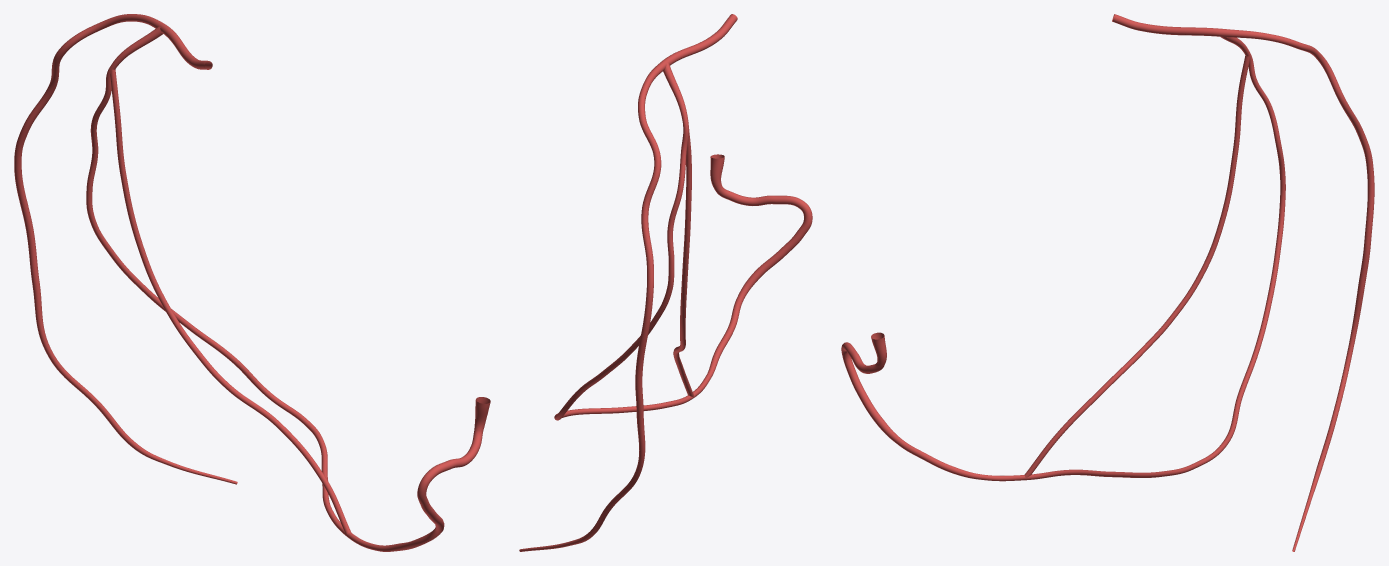
3 renders of one model, left to right at view 1: azimuth 30°, elevation 25°; view 2: azimuth 150°, elevation 25°; view 3: azimuth 270°, elevation 25°, orthographic. The views are drawn at different scales.
Parts seen in each view (by area): view 1: 右侧蝶腭动脉鼻后外侧支; view 2: 右侧蝶腭动脉鼻后外侧支; view 3: 右侧蝶腭动脉鼻后外侧支.
Part boxes in pixels (x1,y1,x2,y2): 右侧蝶腭动脉鼻后外侧支: (14,14,490,551); 右侧蝶腭动脉鼻后外侧支: (519,14,812,551); 右侧蝶腭动脉鼻后外侧支: (841,14,1374,551).
Bounding box in the file's own units: 0.0233 × 0.0567 × 0.0569.
